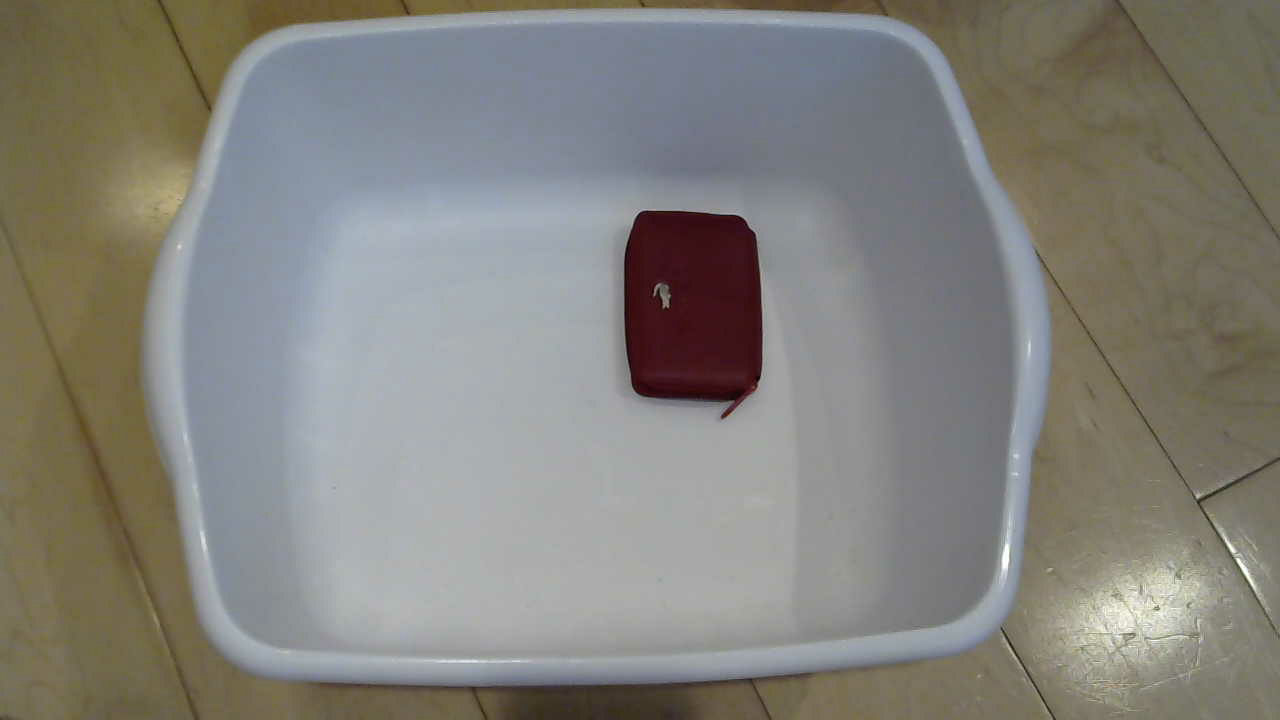wallet: (605, 202, 793, 415)
